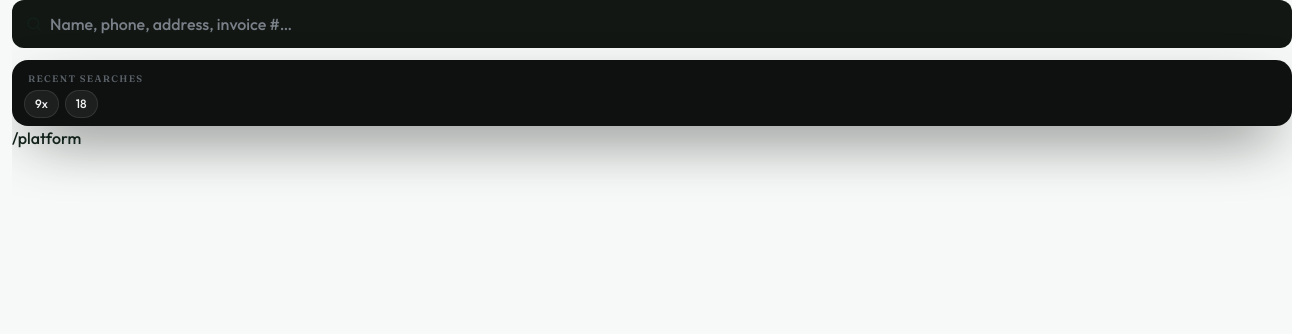
Test: UniversalSearch (embedded / mobile) › ignores Enter/Arrow on old results while a new query is still loading
Type "aa" into the search field named "Search records" at (664, 24), box [50,12,1278,36]
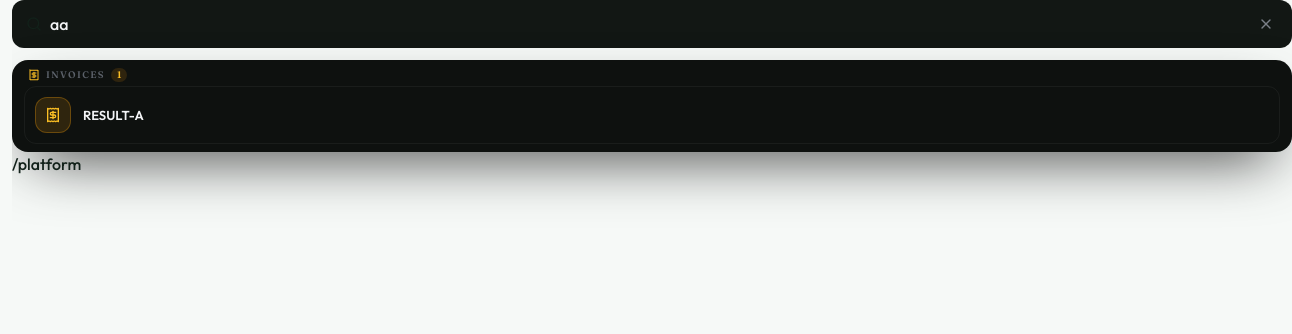
Expected: the text "RESULT-A" is shown, [83,106,144,122]
Replace the text in the search field named "Search records" with "bb" at (648, 24), box [50,12,1246,36]
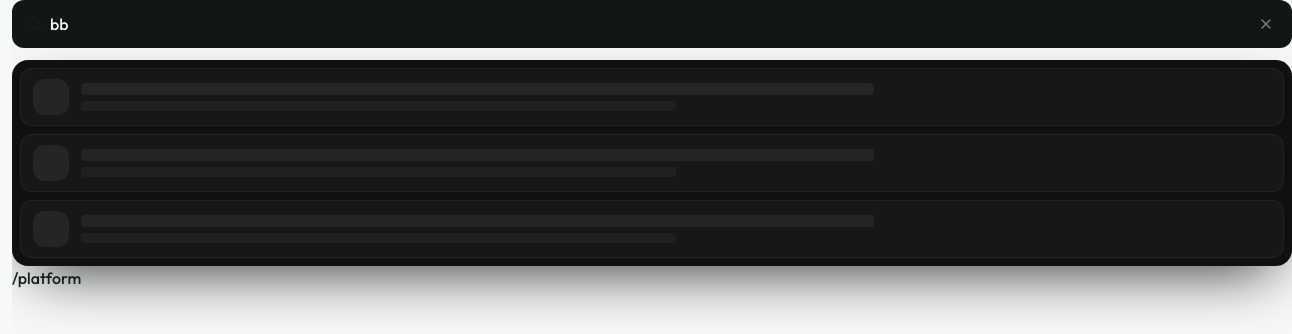
Expected: the option "RESULT-A" is gone
Press ArrowDown in the search field named "Search records", box [50,12,1246,36]
Press Enter in the search field named "Search records", box [50,12,1246,36]
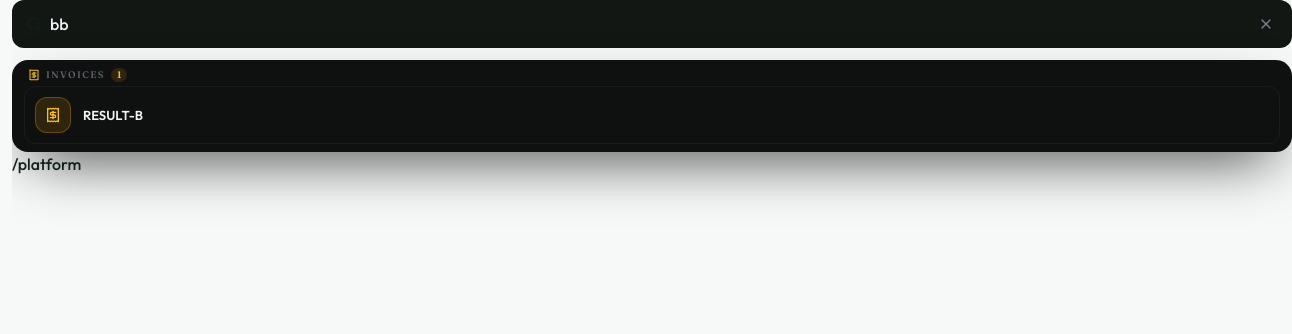
Expected: the text with test id "loc" reads "/platform", [12,154,81,174]
Expected: the text "RESULT-B" is shown, [83,106,143,122]
